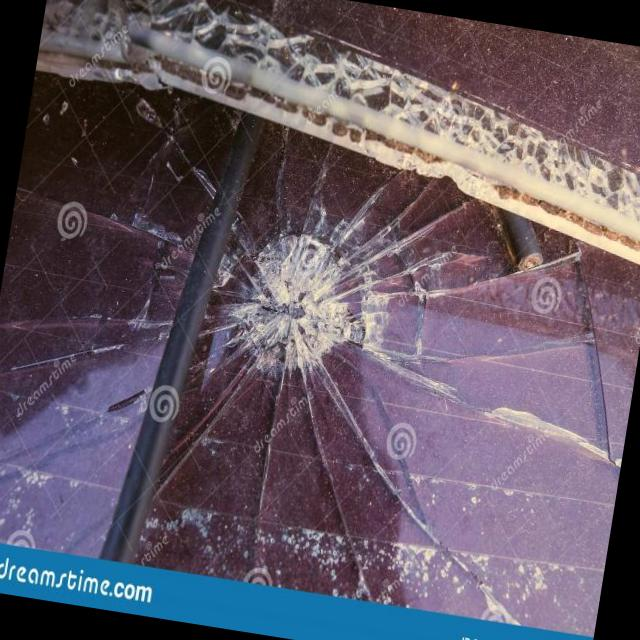faulty: (48, 143, 516, 556)
